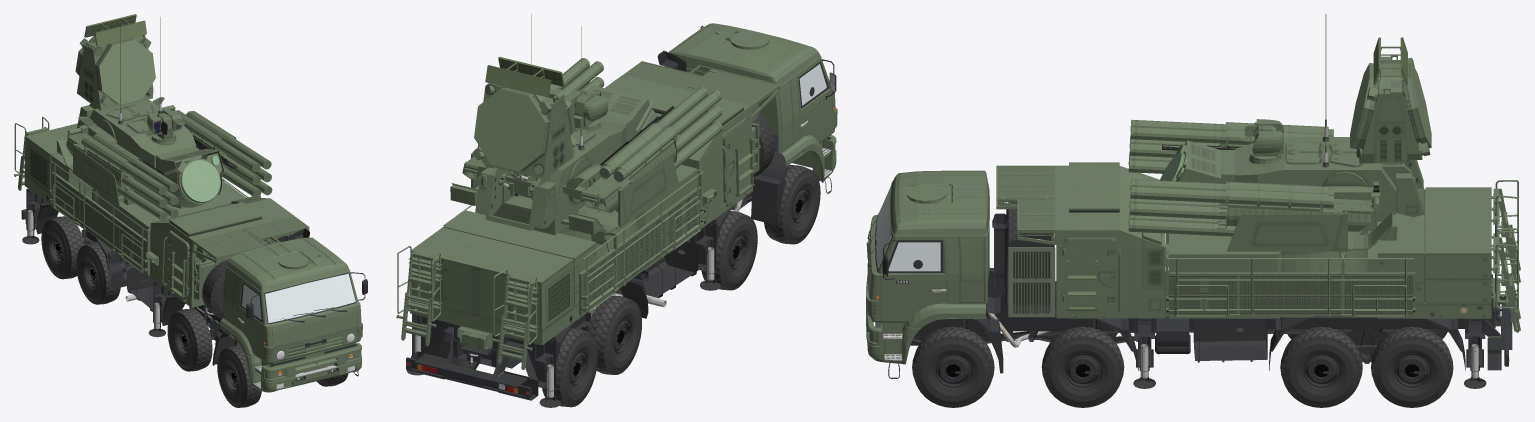
File: pantsirs2.fbx
The picture shows the model from 3 angles, left to right: view 1: azimuth 30°, elevation 25°; view 2: azimuth 150°, elevation 25°; view 3: azimuth 270°, elevation 25°; orthographic projection. The views are drawn at different scales.
Parts seen in each view (by area): view 1: govde, taret_govdesi, füze_rampası, radar, on_sag_teker2, arka_teker2, on_sag_teker, arka_teker1, sag_kapı, arka_sag_kapı, ayaklıklar, ust_kapak; view 2: govde, taret_govdesi, radar, füze_rampası, arka_teker1, arka_teker2, on_sag_teker, on_sag_teker2, sag_kapı, arka_sag_kapı, ayaklıklar, ust_kapak; view 3: govde, taret_govdesi, füze_rampası, radar, arka_teker2, arka_teker1, on_sol_teker, on_sol_teker2, sol_kapı, arka_sol_kapı, ayaklıklar, ust_kapak.
Part boxes in pixels (x1=…): govde: x1=14, y1=116, x2=362, y2=400; taret_govdesi: x1=56, y1=17, x2=224, y2=208; füze_rampası: x1=66, y1=97, x2=272, y2=220; radar: x1=75, y1=14, x2=155, y2=110; on_sag_teker2: x1=167, y1=308, x2=212, y2=371; arka_teker2: x1=41, y1=216, x2=84, y2=279; on_sag_teker: x1=217, y1=345, x2=261, y2=407; arka_teker1: x1=76, y1=242, x2=120, y2=304; sag_kapı: x1=238, y1=280, x2=263, y2=361; arka_sag_kapı: x1=166, y1=231, x2=189, y2=298; ayaklıklar: x1=22, y1=210, x2=165, y2=337; ust_kapak: x1=278, y1=253, x2=312, y2=268; govde: x1=396, y1=23, x2=837, y2=400; taret_govdesi: x1=450, y1=14, x2=678, y2=235; radar: x1=472, y1=56, x2=577, y2=179; füze_rampası: x1=462, y1=58, x2=722, y2=212; arka_teker1: x1=587, y1=295, x2=641, y2=374; arka_teker2: x1=449, y1=328, x2=598, y2=407; on_sag_teker: x1=764, y1=165, x2=820, y2=244; on_sag_teker2: x1=701, y1=211, x2=757, y2=290; sag_kapı: x1=797, y1=59, x2=836, y2=143; arka_sag_kapı: x1=722, y1=119, x2=754, y2=203; ayaklıklar: x1=406, y1=247, x2=721, y2=407; ust_kapak: x1=725, y1=31, x2=769, y2=49; govde: x1=866, y1=162, x2=1520, y2=378; taret_govdesi: x1=1159, y1=14, x2=1424, y2=251; füze_rampası: x1=1128, y1=119, x2=1380, y2=236; radar: x1=1350, y1=37, x2=1431, y2=163; arka_teker2: x1=1371, y1=326, x2=1453, y2=407; arka_teker1: x1=1280, y1=326, x2=1362, y2=407; on_sol_teker: x1=912, y1=326, x2=994, y2=407; on_sol_teker2: x1=1041, y1=327, x2=1124, y2=407; sol_kapı: x1=881, y1=239, x2=946, y2=323; arka_sol_kapı: x1=1063, y1=239, x2=1116, y2=311; ayaklıklar: x1=1133, y1=344, x2=1486, y2=388; ust_kapak: x1=907, y1=184, x2=946, y2=203.
Size of the model in its own units: 299 by 638 by 1081.
